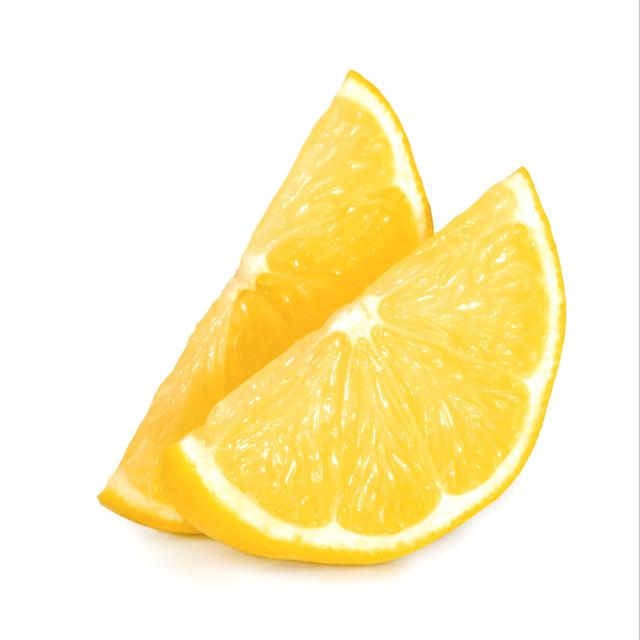lemon: (91, 66, 569, 571)
